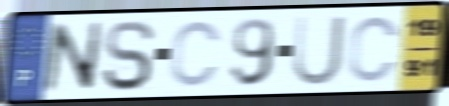9: (229, 15, 278, 89)
C: (345, 14, 402, 85), (168, 18, 224, 90)
N: (40, 20, 105, 94)
S: (99, 18, 158, 93)
U: (290, 13, 348, 89)
